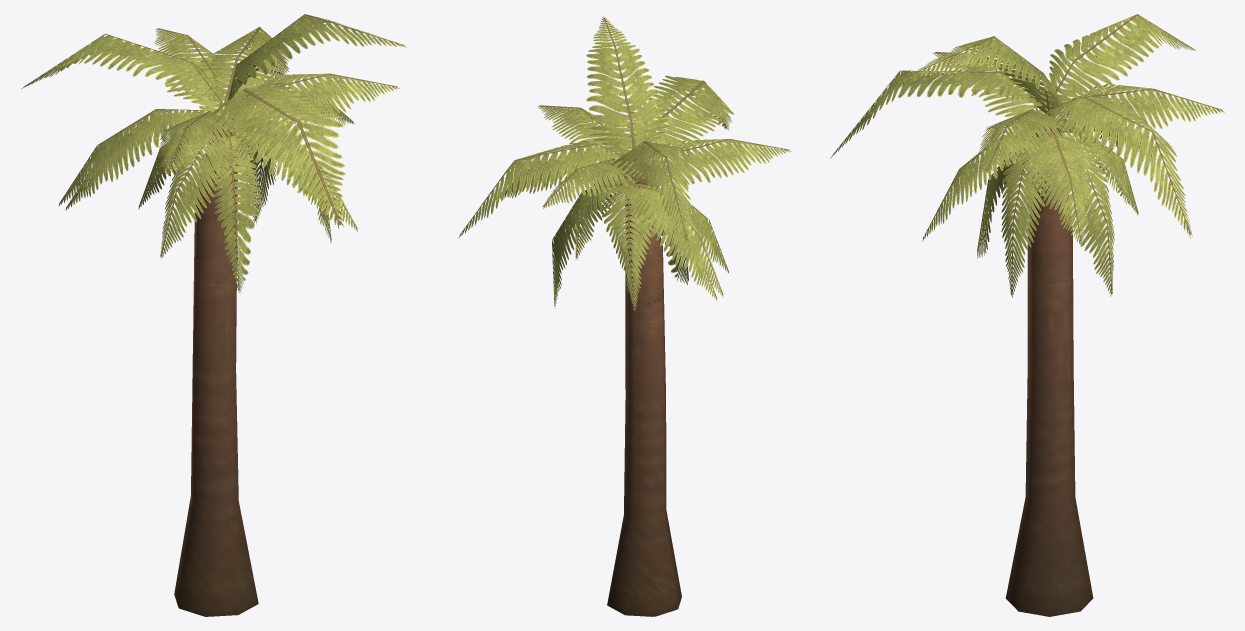
Rendered from agac2 1.fbx.
3 renders of one model, left to right at view 1: azimuth 30°, elevation 25°; view 2: azimuth 150°, elevation 25°; view 3: azimuth 270°, elevation 25°, orthographic. The views are drawn at different scales.
Parts seen in each view (by area): view 1: polySurface31; view 2: polySurface31; view 3: polySurface31.
Part boxes in pixels (x1,y1,x2,y2): polySurface31: (22, 14, 406, 616); polySurface31: (458, 17, 791, 616); polySurface31: (830, 14, 1224, 616).
Bounding box in the file's own units: 7.8 × 15.12 × 9.41.
